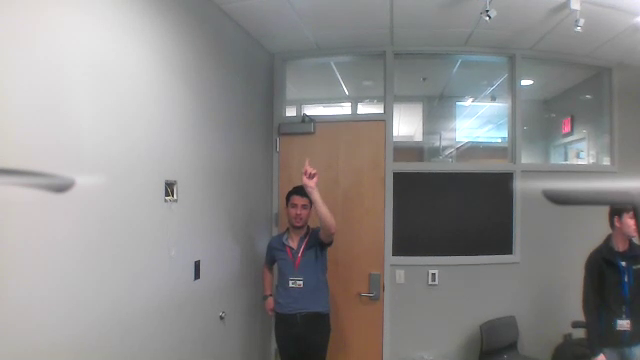up: (300, 155, 322, 191)
